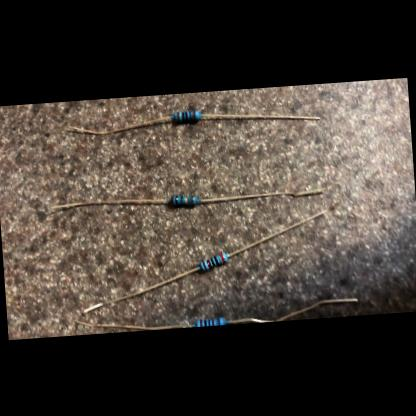resistor: (199, 251, 228, 270), (170, 192, 198, 206), (174, 109, 200, 121), (196, 316, 226, 326)
wire: (224, 204, 336, 256), (82, 266, 202, 312), (226, 297, 360, 324), (76, 311, 196, 334), (201, 106, 320, 127), (68, 115, 174, 135), (198, 186, 326, 202), (52, 194, 170, 210)
